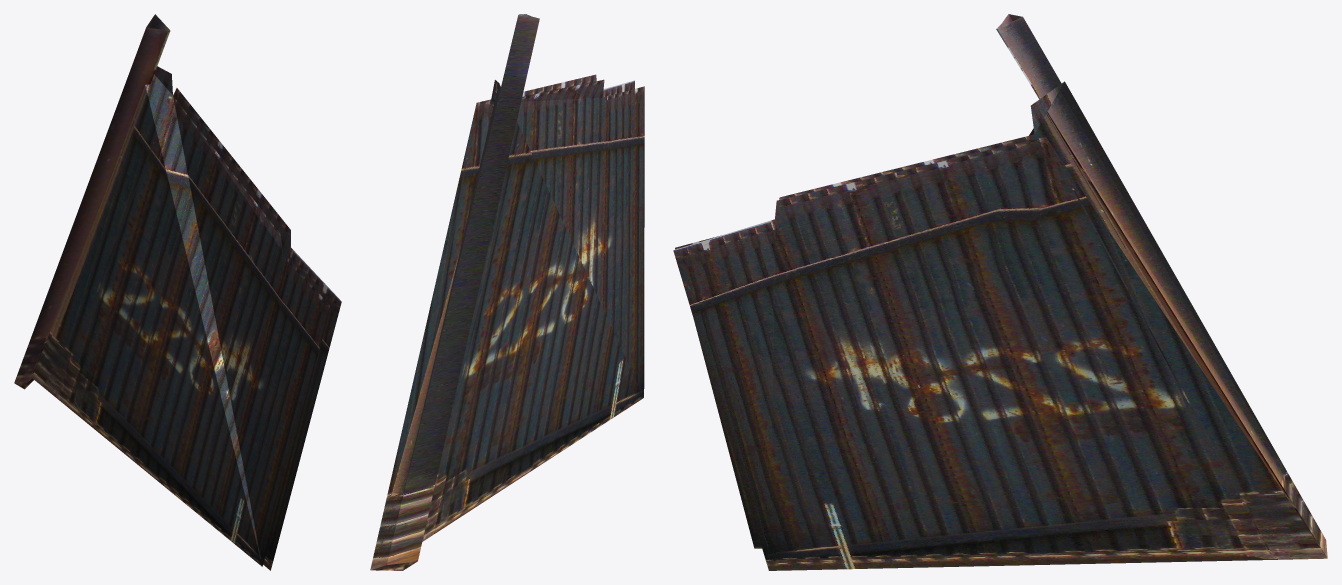
Rendered from border-fence.fbx.
3 renders of one model, left to right at view 1: azimuth 30°, elevation 25°; view 2: azimuth 150°, elevation 25°; view 3: azimuth 270°, elevation 25°, orthographic. The views are drawn at different scales.
Parts seen in each view (by area): view 1: border_fence1:Default; view 2: border_fence1:Default; view 3: border_fence1:Default.
Boxes of the visible parts, x1,y1,x2,y2 form: border_fence1:Default: (14,14,341,570); border_fence1:Default: (370,14,644,570); border_fence1:Default: (673,14,1327,570).
Size of the model in its own units: 0.1752 by 1.44 by 1.55.
